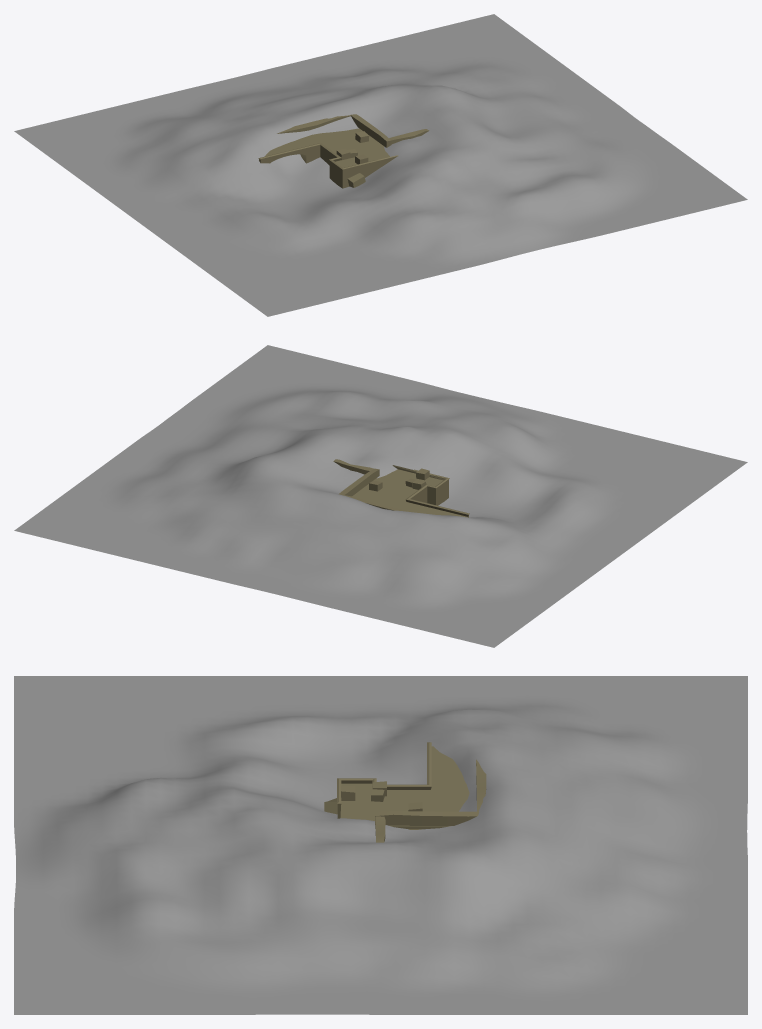
Rendered from dust2_site_a.FBX.
3 views of the same model, one above another, from view 1: azimuth 30°, elevation 25°; view 2: azimuth 150°, elevation 25°; view 3: azimuth 270°, elevation 25° (orthographic). The views are drawn at different scales.
Visible parts, largest first — view 1: Plane001, Line001; view 2: Plane001, Line001; view 3: Plane001, Line001.
Boxes of the visible parts, x1,y1,x2,y2 form: Plane001: (14,14,747,316); Line001: (258,114,429,188); Plane001: (14,345,747,647); Line001: (333,459,469,517); Plane001: (14,676,747,1014); Line001: (324,742,486,842).
Size of the model in its own units: 673 by 60.54 by 616.
